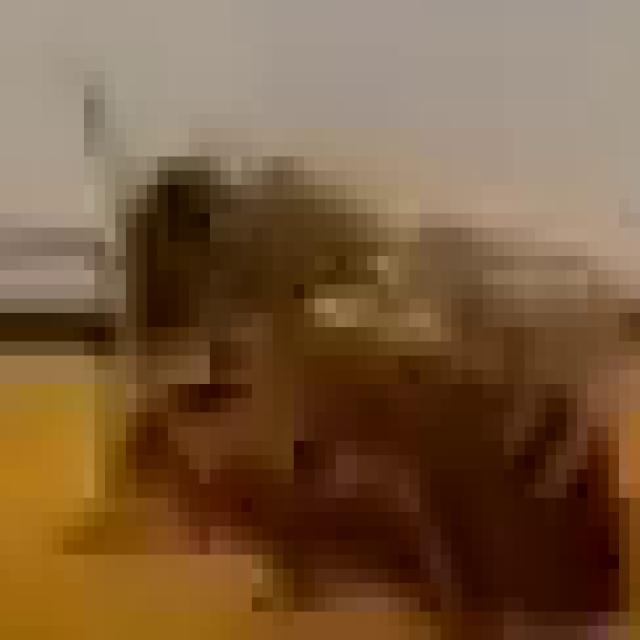honeybee: (112, 127, 606, 569)
